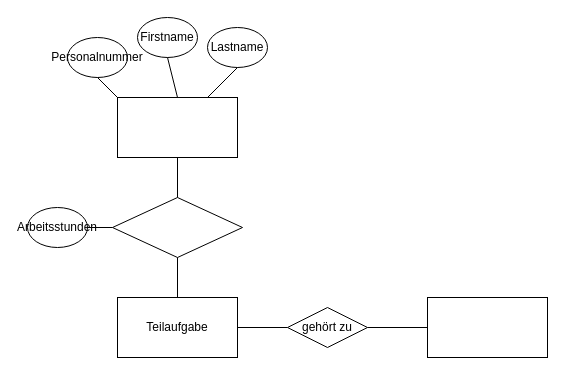
Some shapes in this 565 by 375 pixel diagram are drawn without their labels. The centre of each missing label's shape, as x and y in pixels:
Arbeitet an: the point at 177,227
Mitarbeiter: the point at 177,127
Projekt: the point at 487,327
